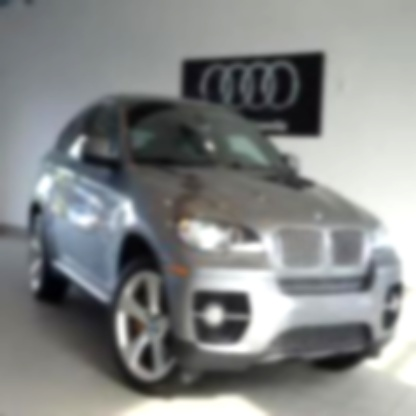Vehicle: (26, 99, 403, 396)
